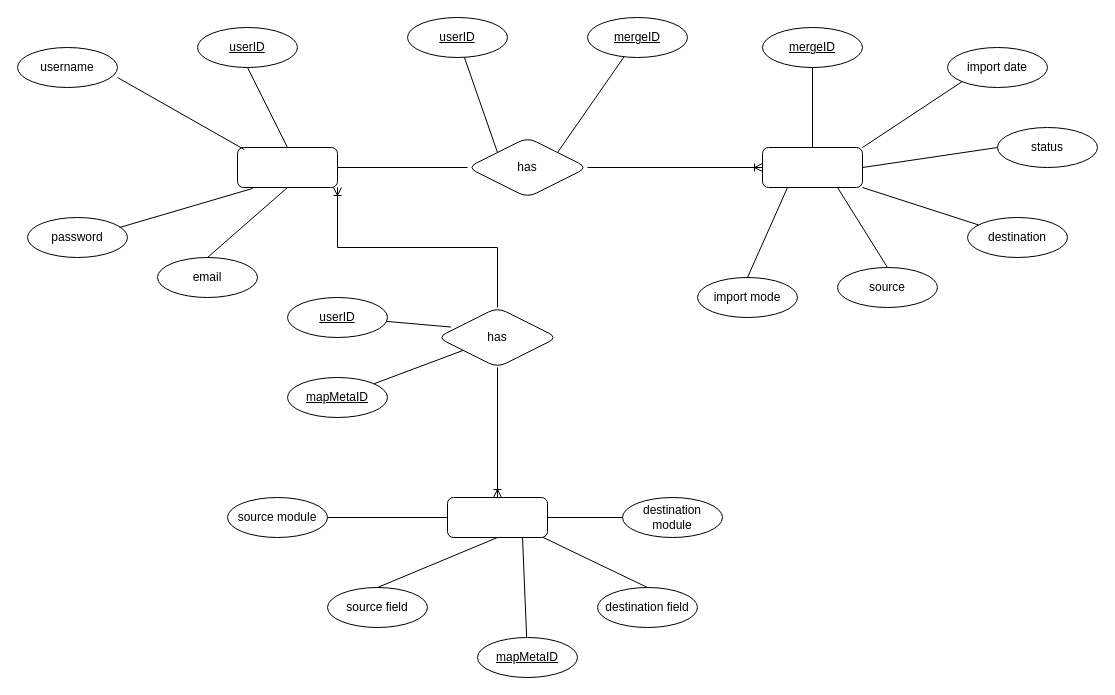
This 1115x695 diagram has some shape labels left out. The centre of each missing label's shape, as x and y in pixels:
Mapping Meta: (x=497, y=517)
merge history: (x=812, y=167)
user: (x=287, y=167)
